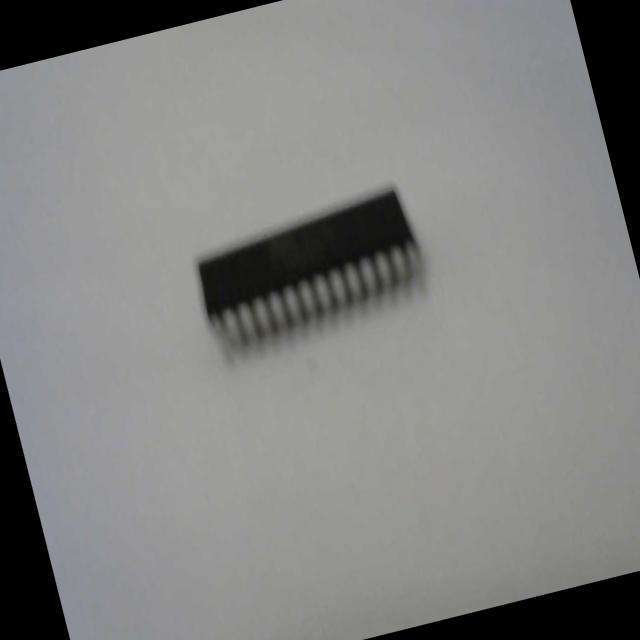atmega: (182, 175, 437, 362)
